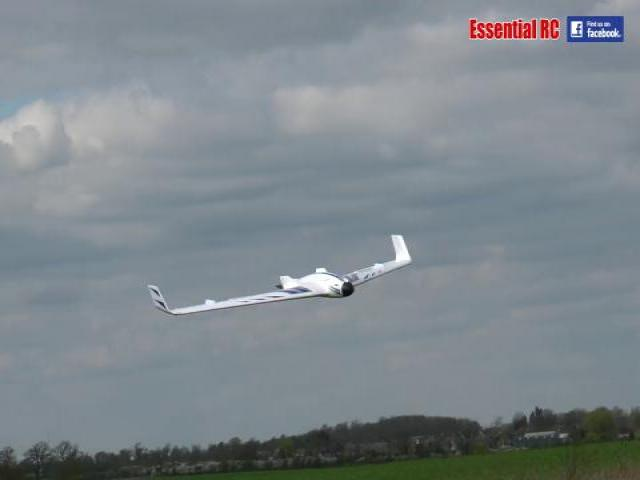flying wing: (145, 230, 415, 316)
